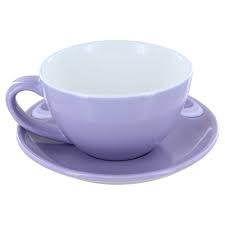cup: (4, 39, 192, 158)
